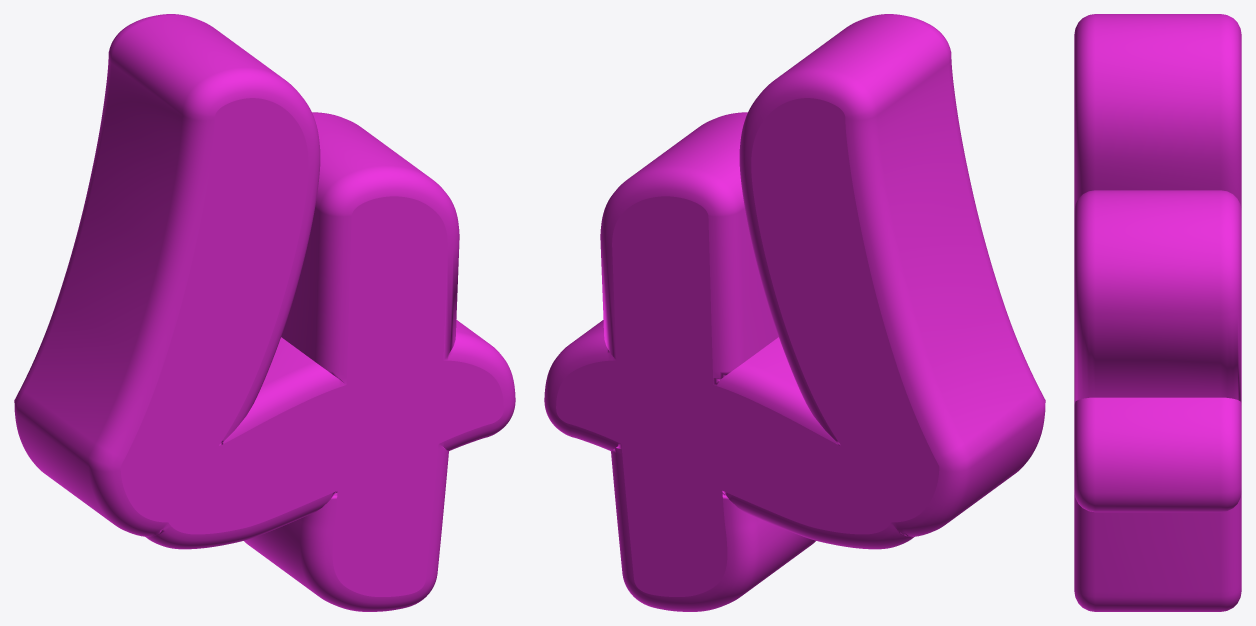
3 views of the same model, side by side, from view 1: azimuth 30°, elevation 25°; view 2: azimuth 150°, elevation 25°; view 3: azimuth 270°, elevation 25° (orthographic). The views are drawn at different scales.
Visible parts, largest first — view 1: Text; view 2: Text; view 3: Text.
Part boxes in pixels (box(x1,y1,x2,y2)): Text: box(14, 14, 515, 611); Text: box(544, 14, 1045, 611); Text: box(1074, 14, 1241, 611).
Size of the model in its own units: 0.4149 by 0.541 by 0.16.
